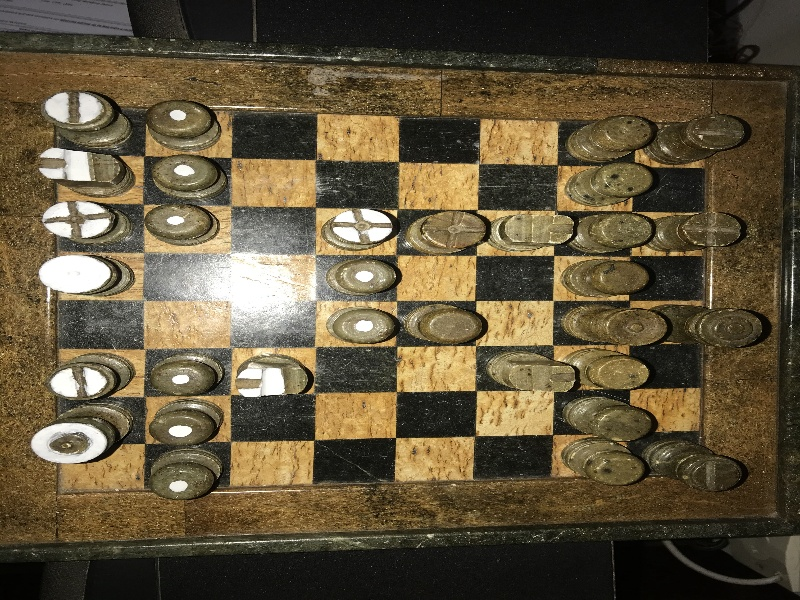WhiteBishop: (42, 201, 131, 246), (323, 209, 392, 251)
WhitePawn: (146, 100, 221, 151), (147, 449, 222, 499), (152, 154, 227, 200), (150, 401, 223, 446), (145, 204, 219, 246), (151, 354, 222, 396), (326, 259, 394, 296), (326, 308, 394, 343)
WhiteRook: (42, 91, 133, 150), (50, 353, 134, 400)
